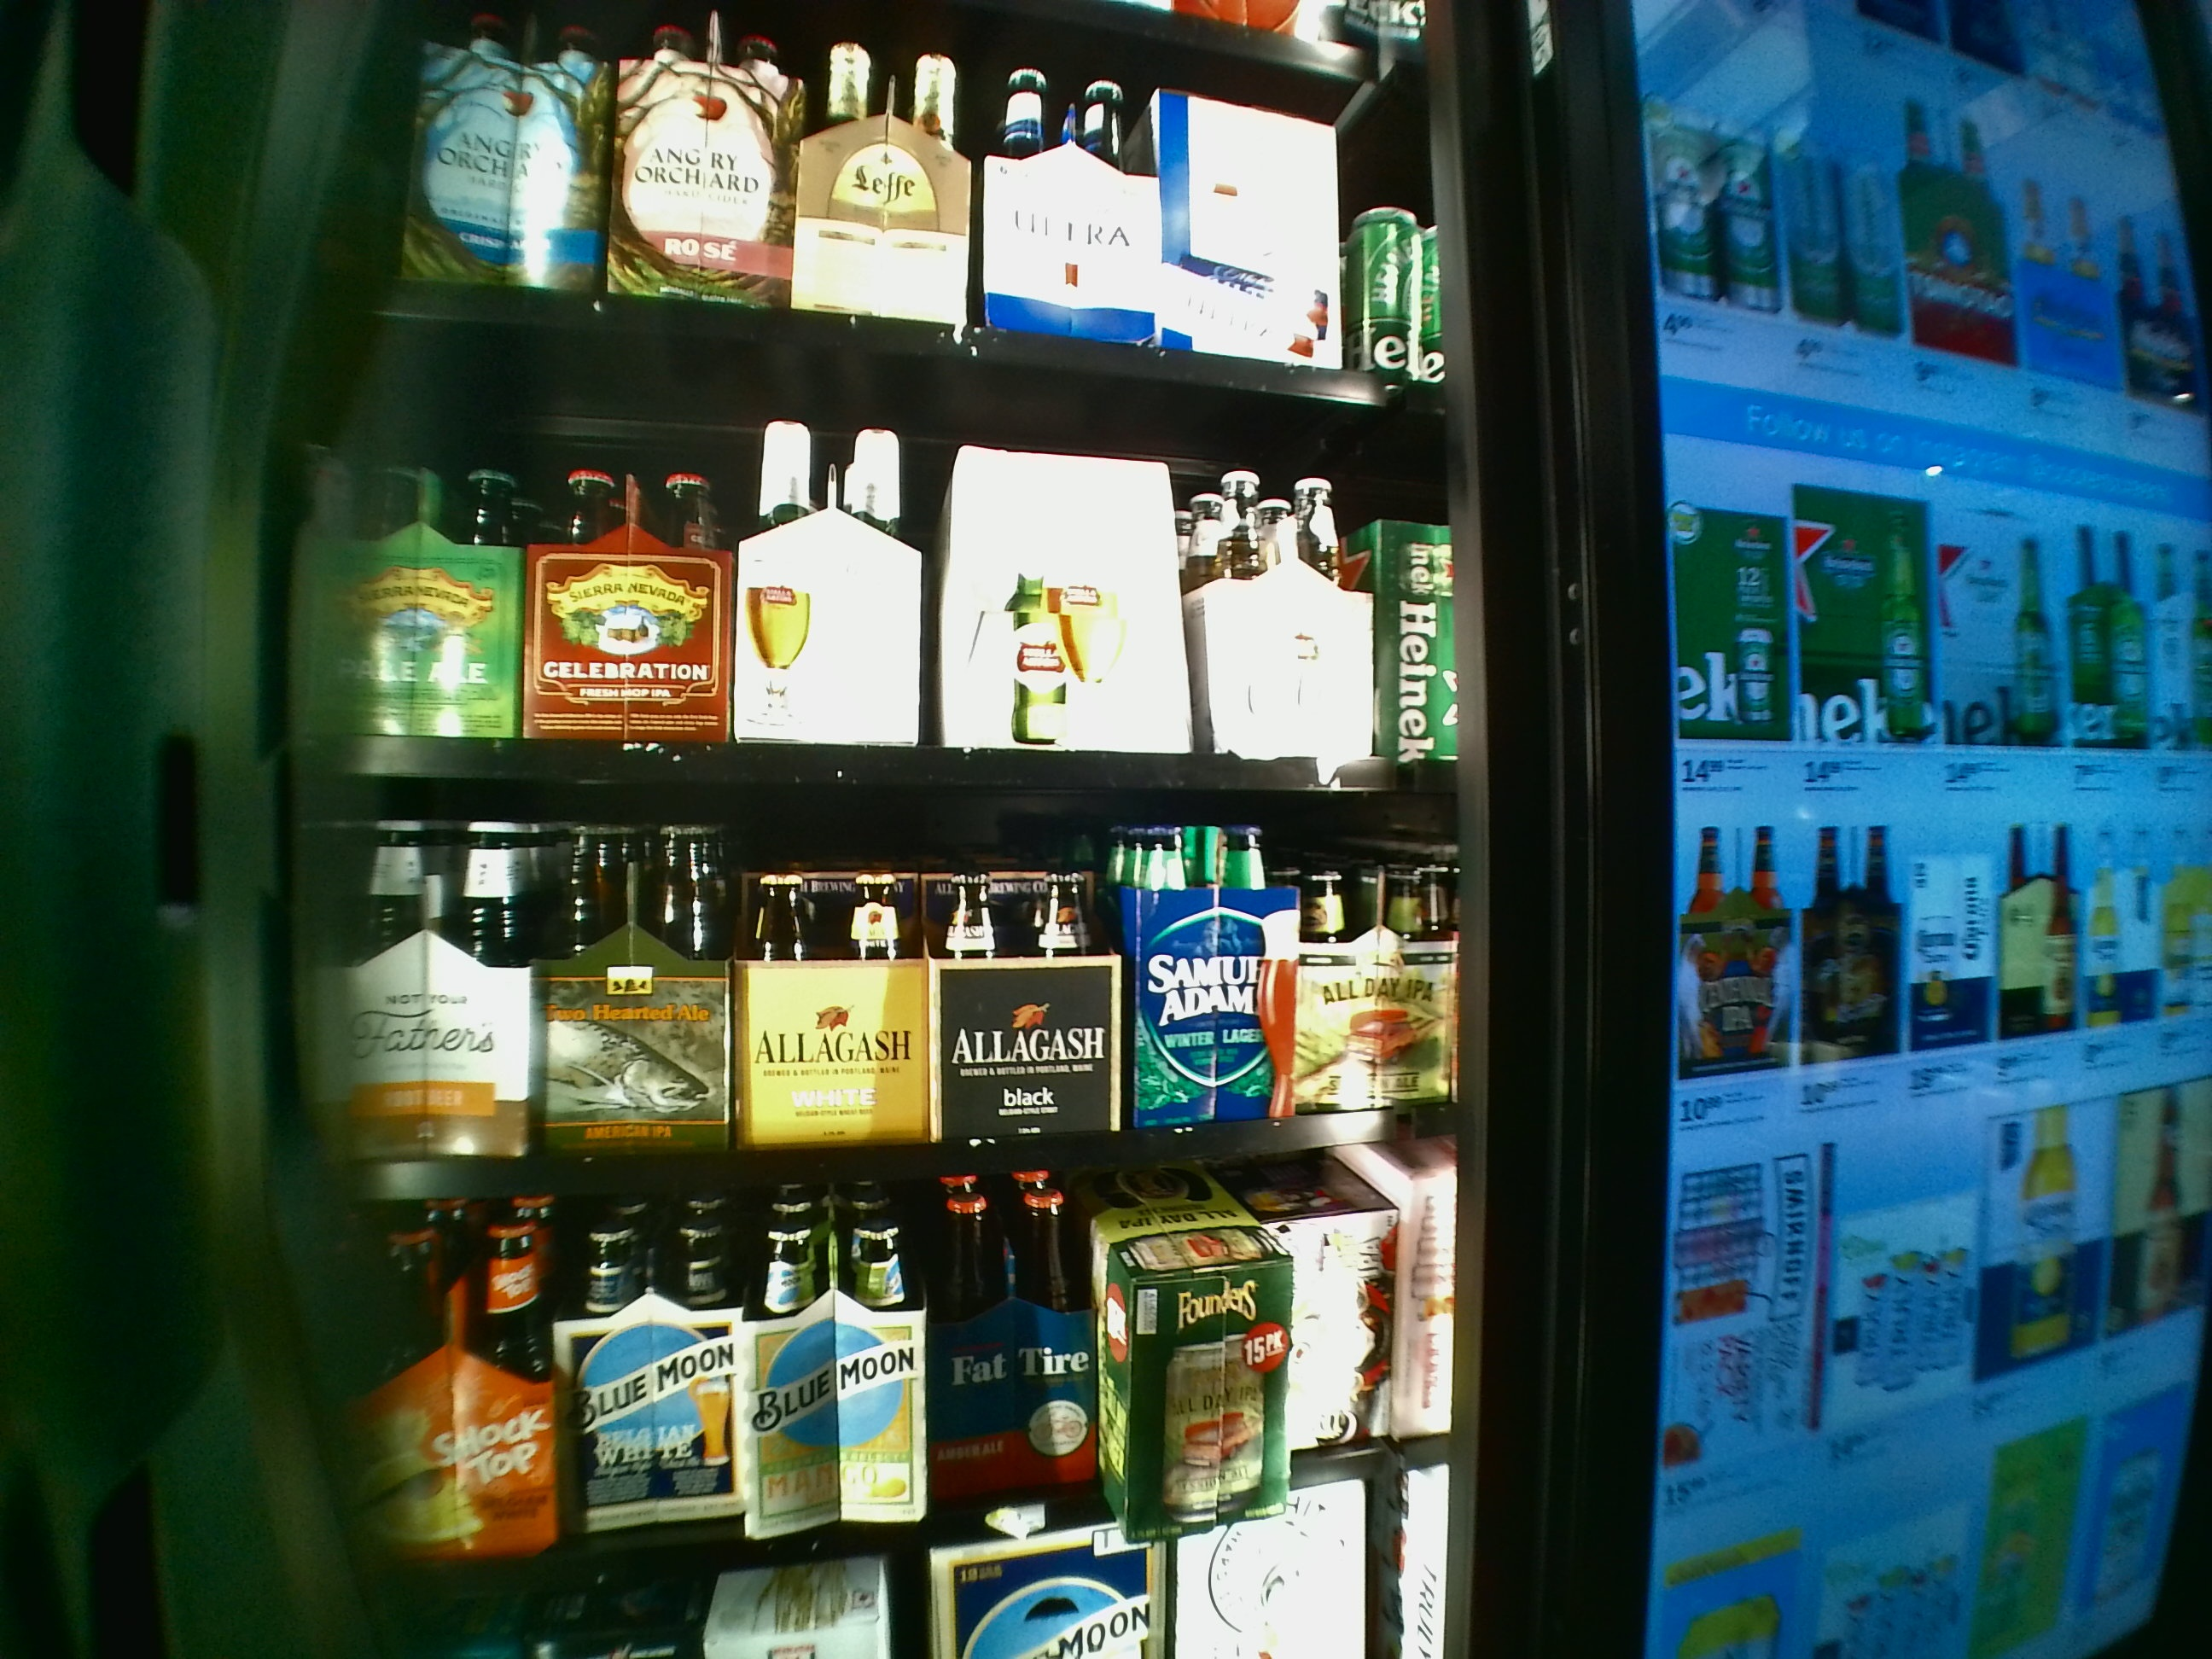shelf: (289, 319, 1453, 791), (286, 798, 1447, 1195)
